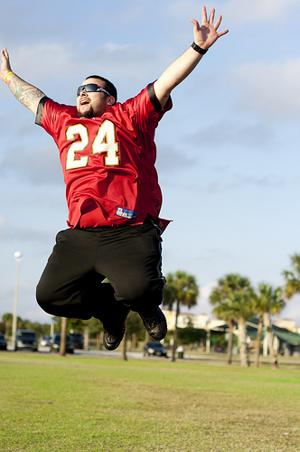person: (2, 8, 229, 352)
